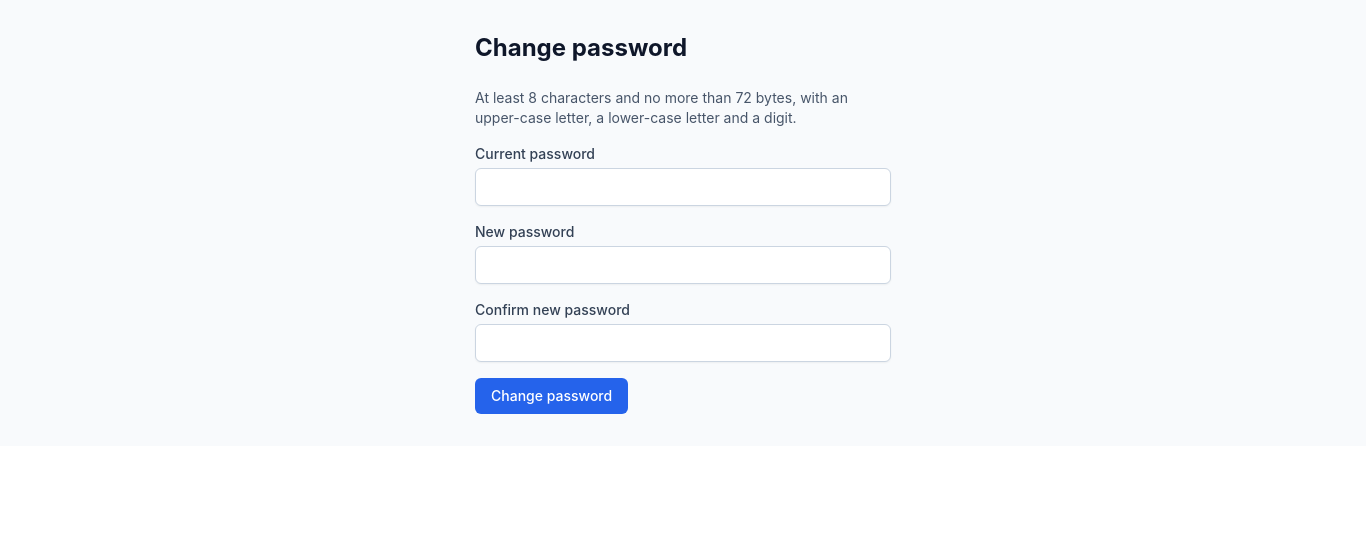
Test: ChangePasswordPage › shows the fixed sentence for forbidden (HTTP 403) and no server text
In the password field with test id "current-password-input": (683, 187) [475,168,891,206], type "OldPass1"
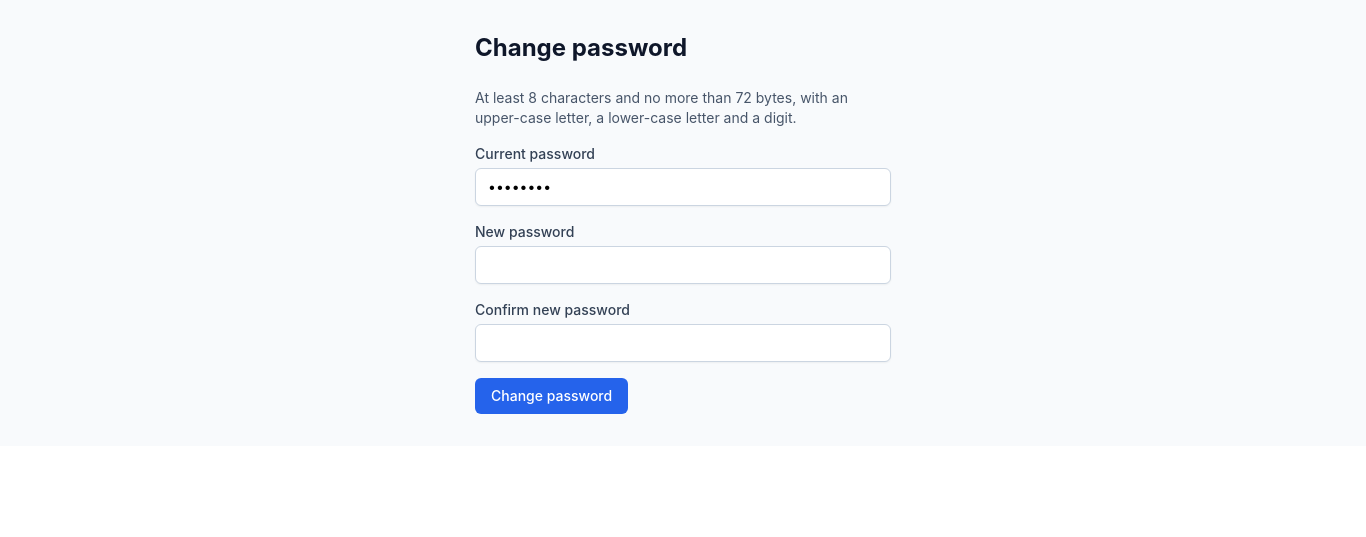
In the password field with test id "new-password-input": (683, 265) [475,246,891,284], type "NewPass12"
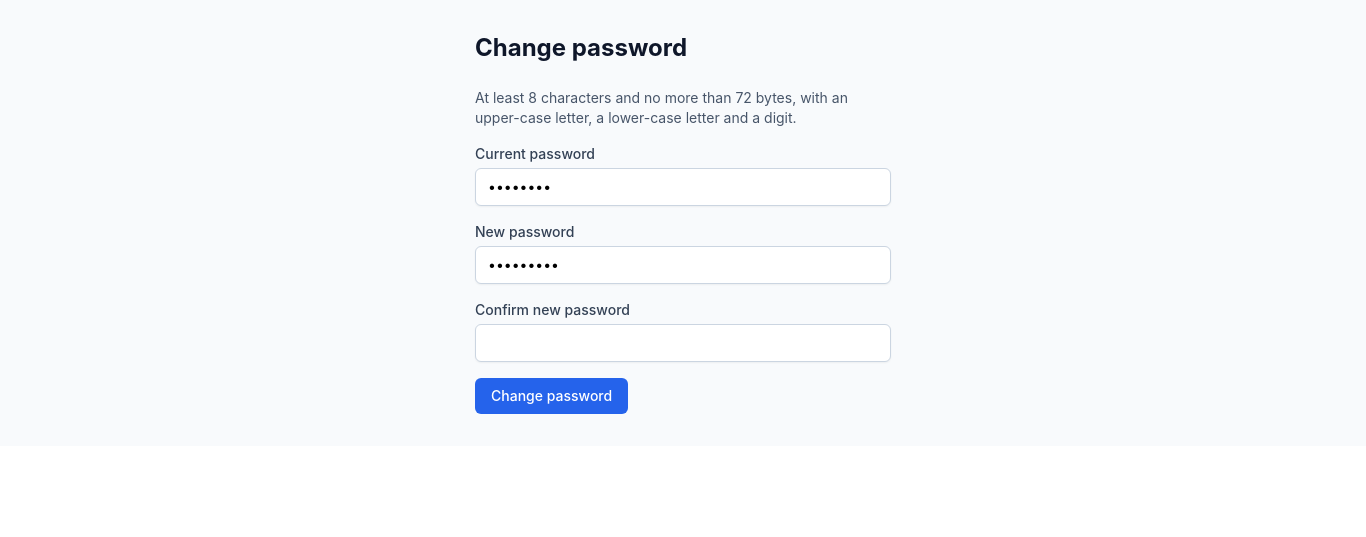
In the password field with test id "confirm-password-input": (683, 343) [475,324,891,362], type "NewPass12"
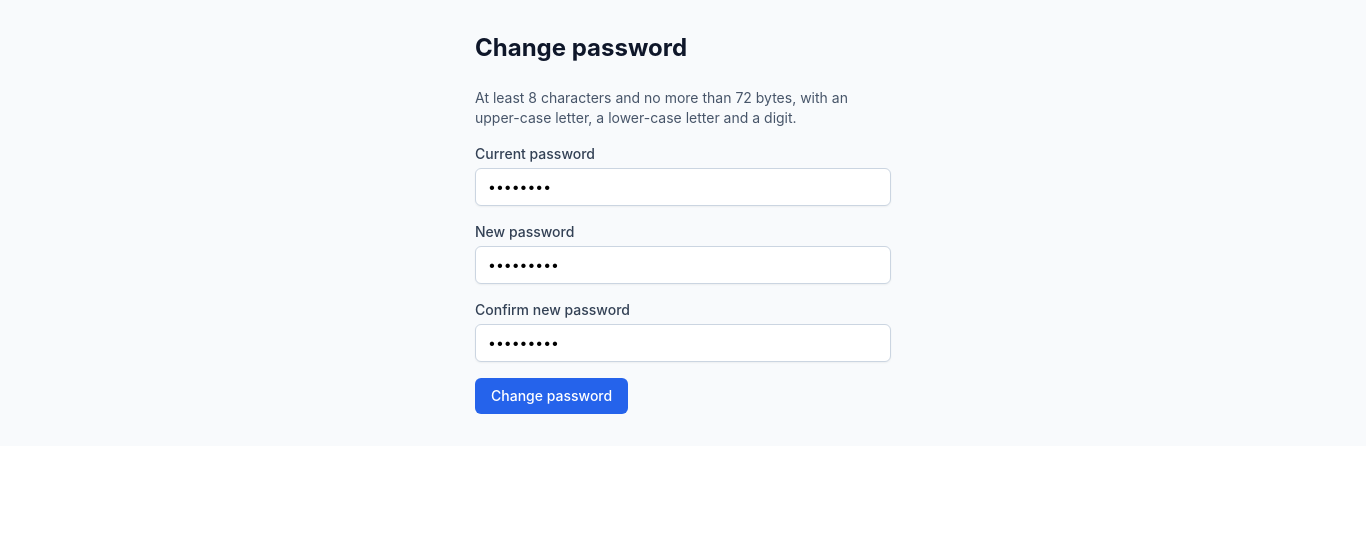
Click the button with test id "change-password-submit": (552, 396) [475,378,628,414]
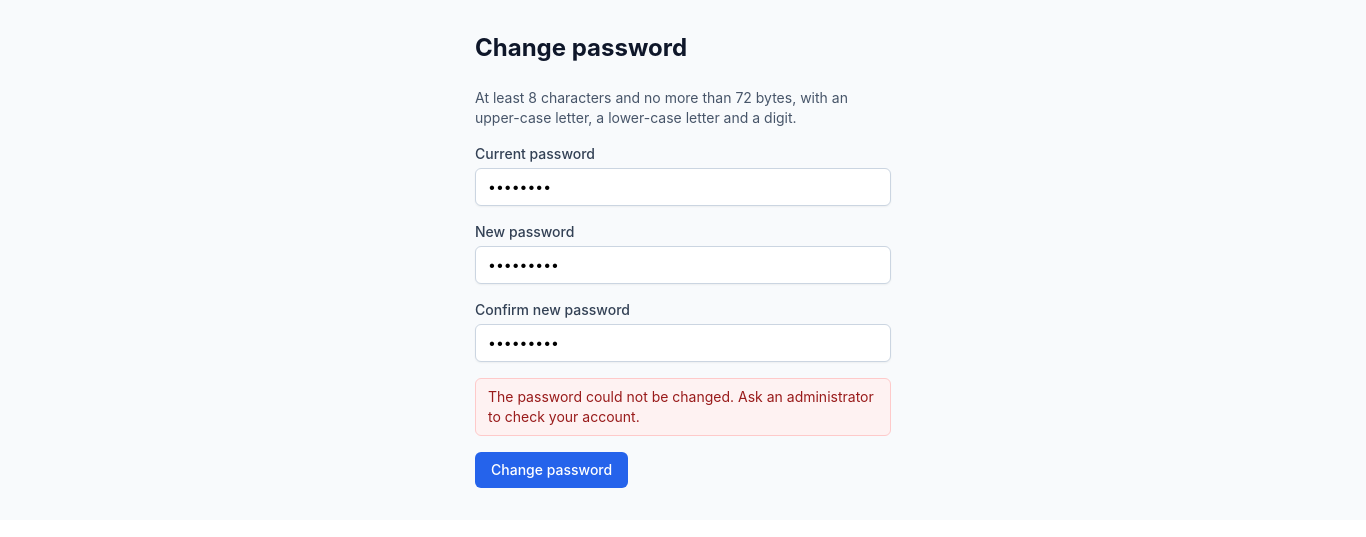
Expected: the message with test id "change-password-outcome" reads "The password could not be changed. Ask an administrator to check your account.", [488,388,874,425]
